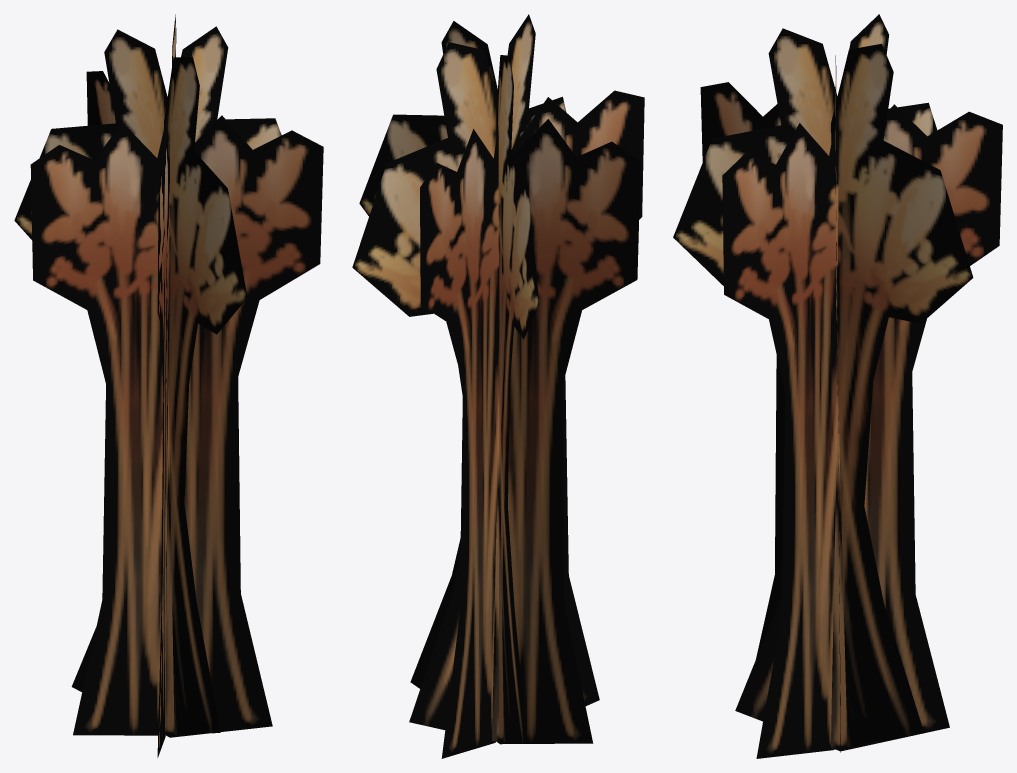
The model's file is SM_FlowersPlant_01.fbx.
The picture shows the model from 3 angles, left to right: view 1: azimuth 30°, elevation 25°; view 2: azimuth 150°, elevation 25°; view 3: azimuth 270°, elevation 25°; orthographic projection. The views are drawn at different scales.
Visible parts, largest first — view 1: SM_FlowersPlant_01_LOD0; view 2: SM_FlowersPlant_01_LOD0; view 3: SM_FlowersPlant_01_LOD0.
Boxes of the visible parts, <box> form: SM_FlowersPlant_01_LOD0: <box>14,14,323,757</box>; SM_FlowersPlant_01_LOD0: <box>352,14,644,758</box>; SM_FlowersPlant_01_LOD0: <box>673,14,1002,758</box>.
Bounding box in the file's own units: 22.14 × 22.14 × 53.36.
Materials: 1 (1 with a texture image).
